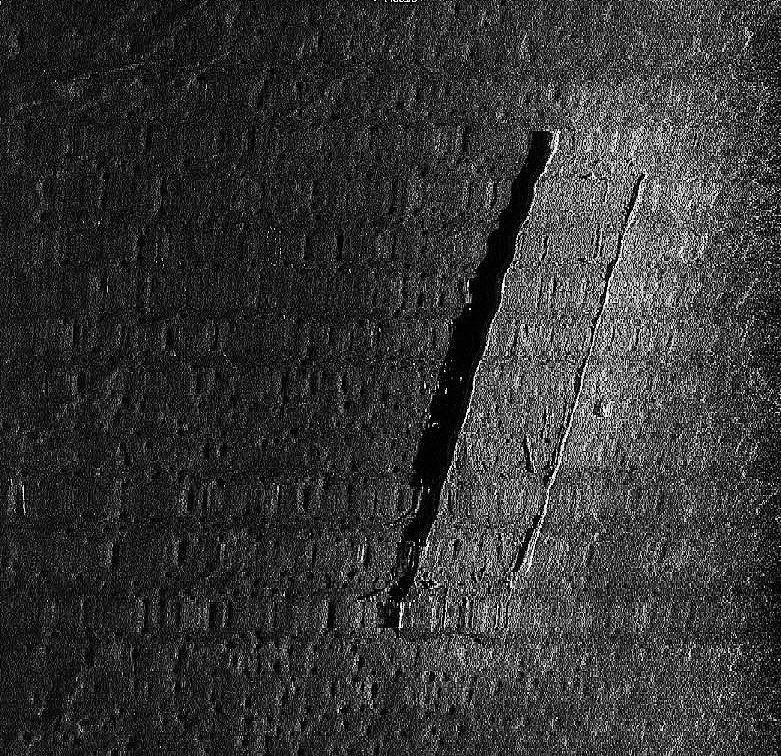ship: (400, 130, 649, 619)
